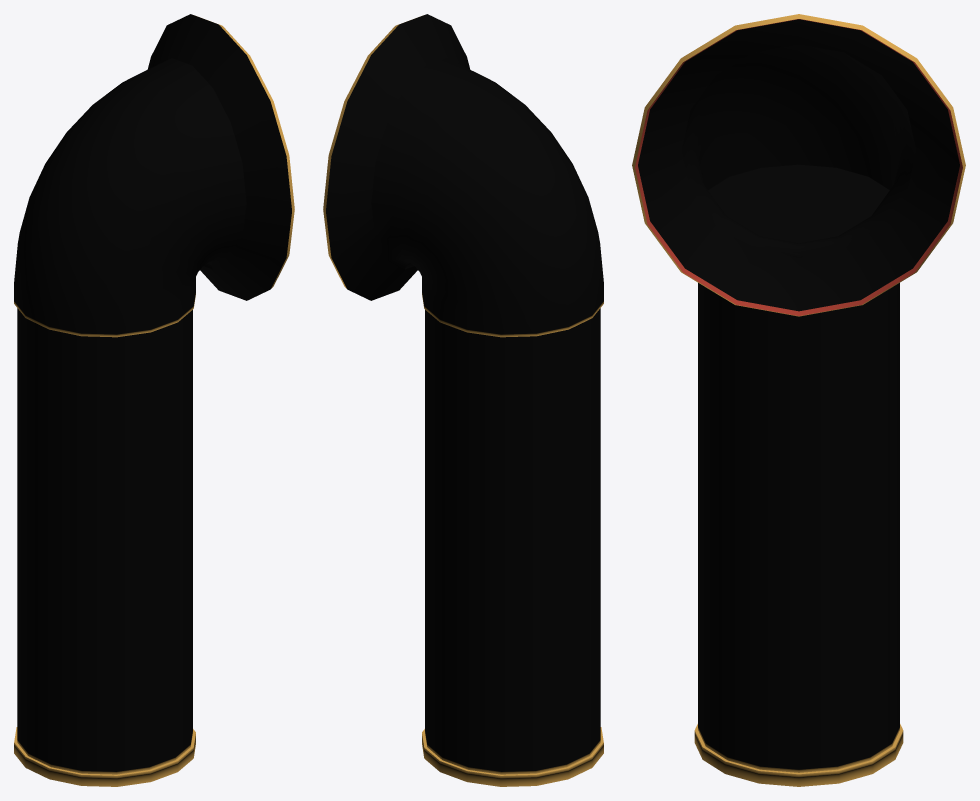
File: cowl_vent_45.glb
3 views of the same model, side by side, from view 1: azimuth 30°, elevation 25°; view 2: azimuth 150°, elevation 25°; view 3: azimuth 270°, elevation 25° (orthographic). The views are drawn at different scales.
Visible parts, largest first — view 1: trunk, cowl; view 2: trunk, cowl; view 3: trunk, cowl_inside, cowl.
Part boxes in pixels (left/top/right/bottom): trunk: left=14, top=308, right=195, bottom=786; cowl: left=14, top=14, right=294, bottom=337; trunk: left=422, top=308, right=603, bottom=786; cowl: left=323, top=14, right=603, bottom=337; trunk: left=694, top=283, right=903, bottom=786; cowl_inside: left=635, top=19, right=962, bottom=315; cowl: left=632, top=14, right=965, bottom=316.
Size of the model in its own units: 1.12 by 3.77 by 1.44.
